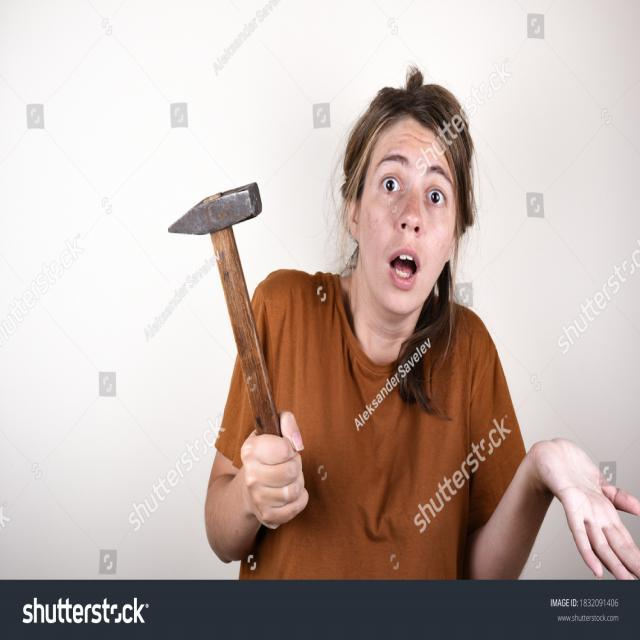hammer: (163, 162, 279, 450)
